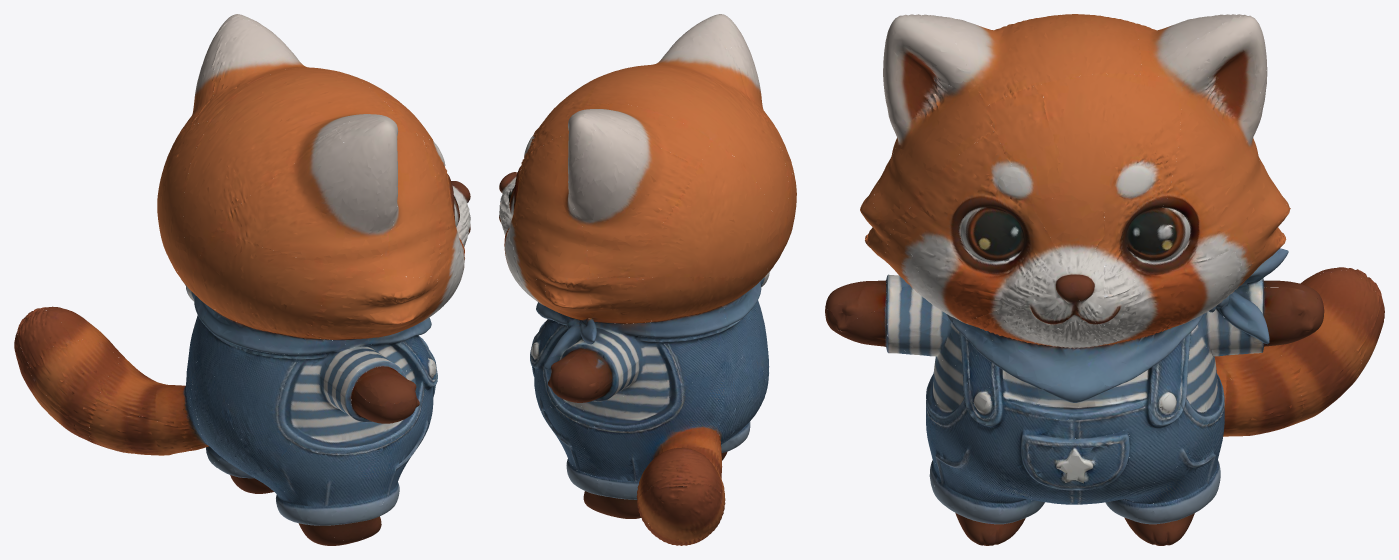
The model's file is neko_s.glb.
3 views of the same model, side by side, from view 1: azimuth 30°, elevation 25°; view 2: azimuth 150°, elevation 25°; view 3: azimuth 270°, elevation 25° (orthographic). The views are drawn at different scales.
Visible parts, largest first — view 1: tripo_node_c7aa14ce-63cf-4fc1-9a69-1f858b8bdc84; view 2: tripo_node_c7aa14ce-63cf-4fc1-9a69-1f858b8bdc84; view 3: tripo_node_c7aa14ce-63cf-4fc1-9a69-1f858b8bdc84.
Part boxes in pixels (box(x1,y1,x2,y2)): tripo_node_c7aa14ce-63cf-4fc1-9a69-1f858b8bdc84: box(14, 14, 470, 545); tripo_node_c7aa14ce-63cf-4fc1-9a69-1f858b8bdc84: box(499, 14, 796, 545); tripo_node_c7aa14ce-63cf-4fc1-9a69-1f858b8bdc84: box(825, 14, 1384, 545).
Bounding box in the file's own units: 0.7908 × 0.9958 × 0.9803.
Materials: 1 (1 with a texture image).
